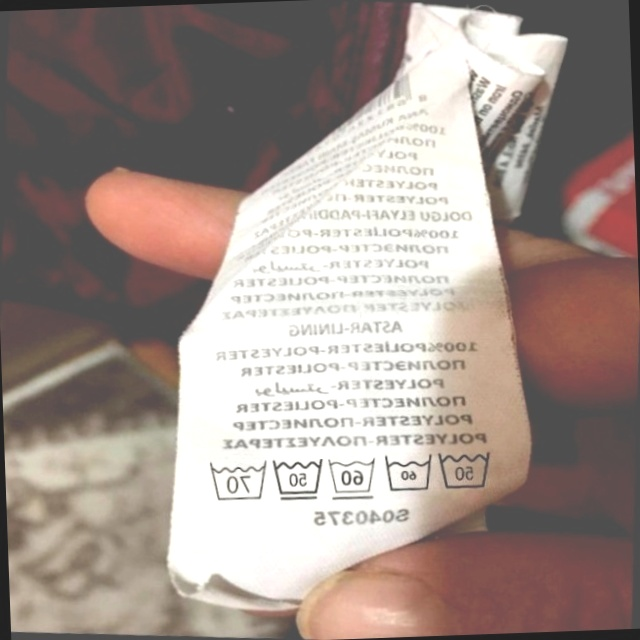50C: (432, 441, 499, 497), (267, 452, 327, 506)
60C: (322, 450, 379, 503), (378, 448, 436, 499)
70C: (201, 455, 269, 506)
